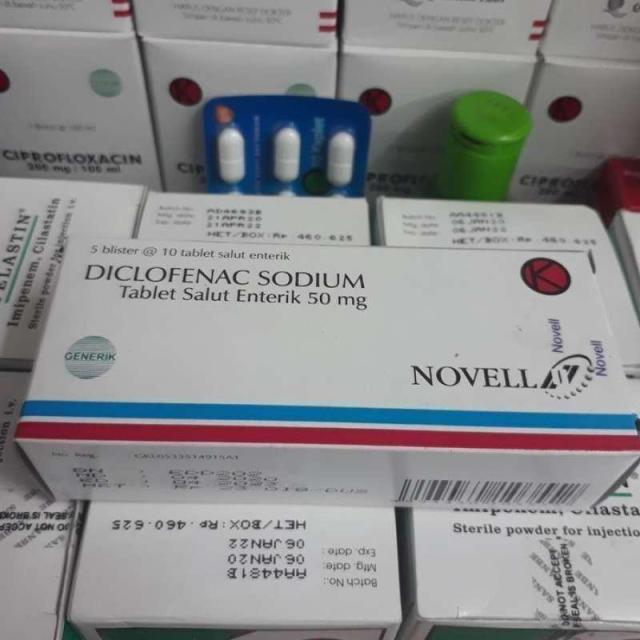drug-name: (410, 350, 542, 395)
